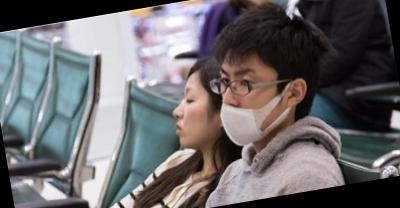with_mask: (209, 57, 288, 148)
without_mask: (167, 80, 219, 149)
